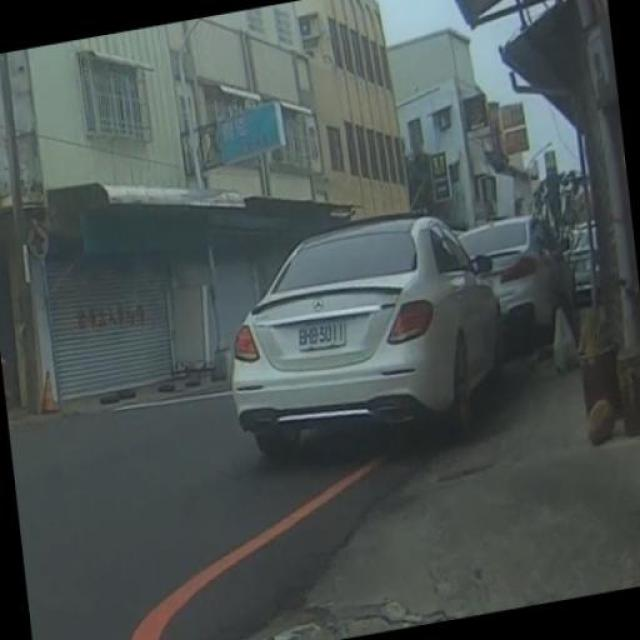illegalparking: (214, 202, 560, 505)
